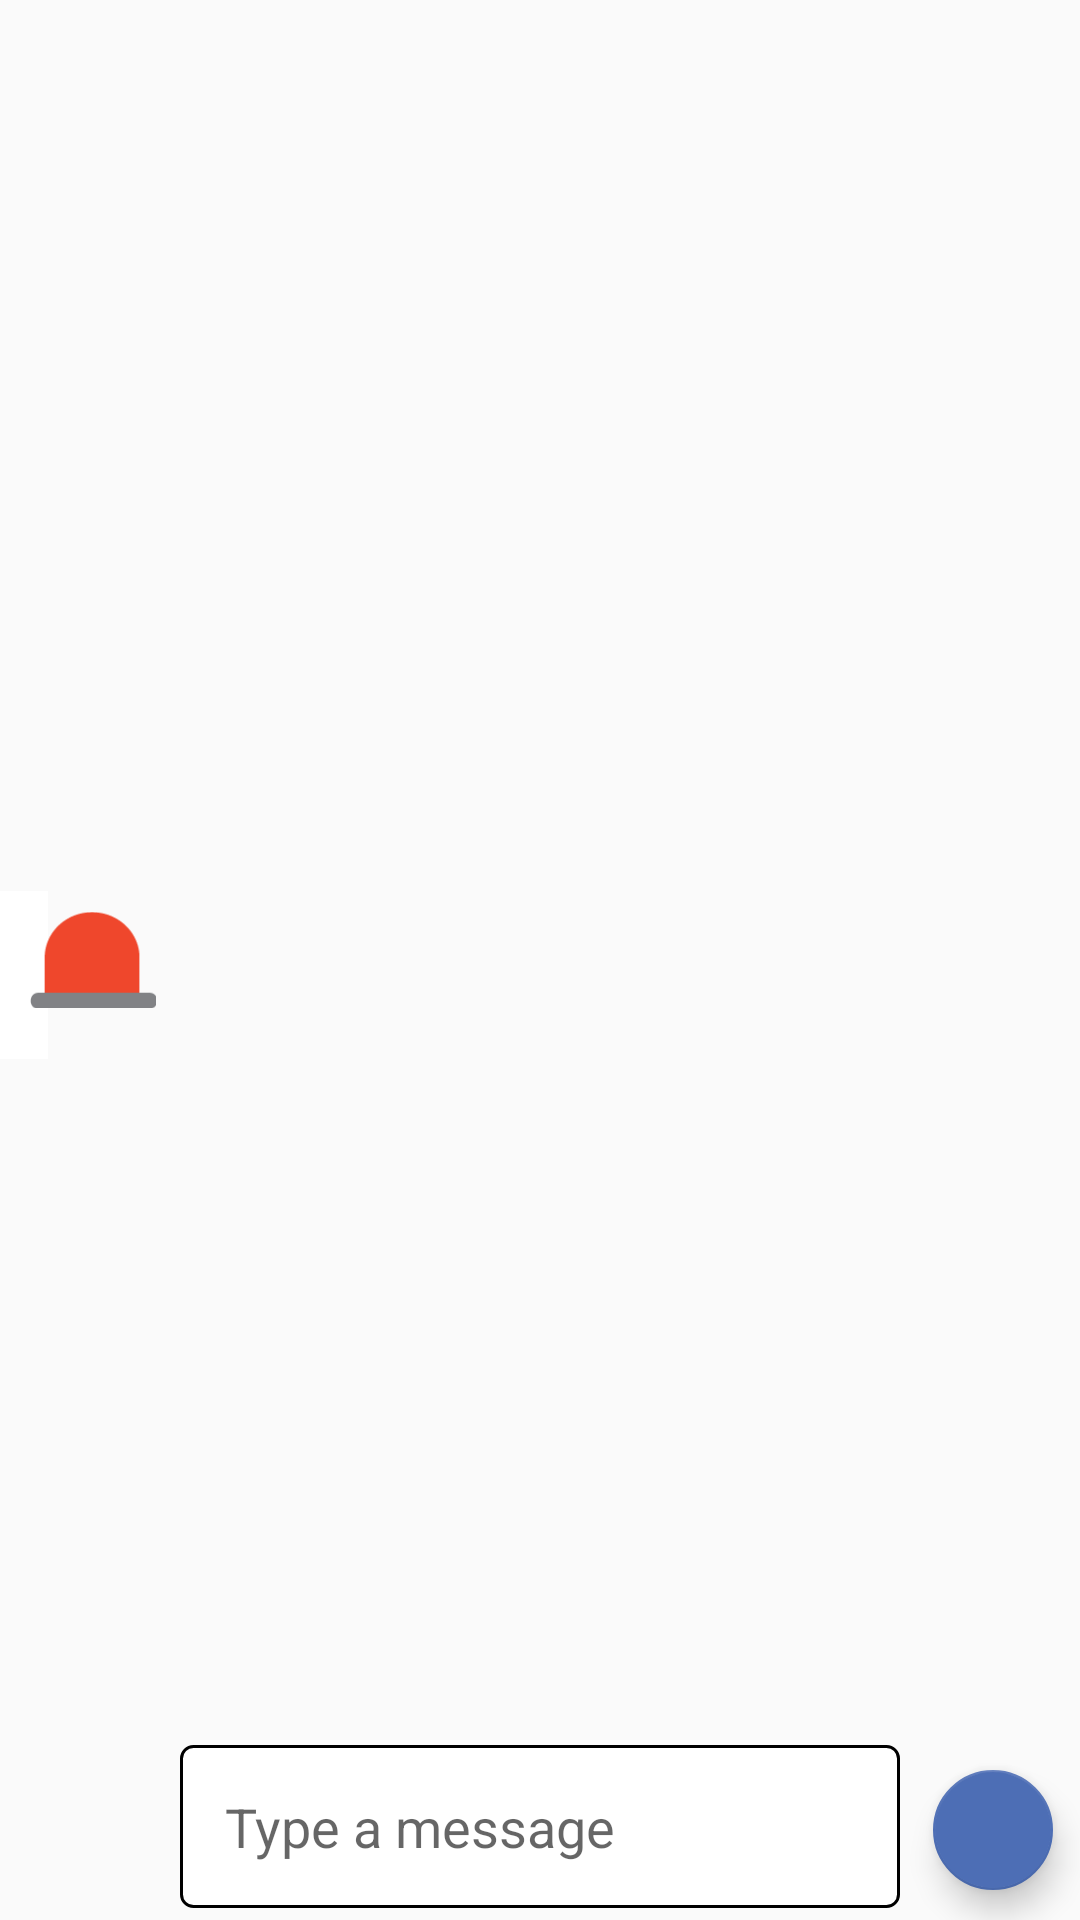

Named icons in this screenshot (1080w x 1920h) and their bounding boxes, (x1, y1, x2, y2):
emer: (30, 912, 156, 1008)
